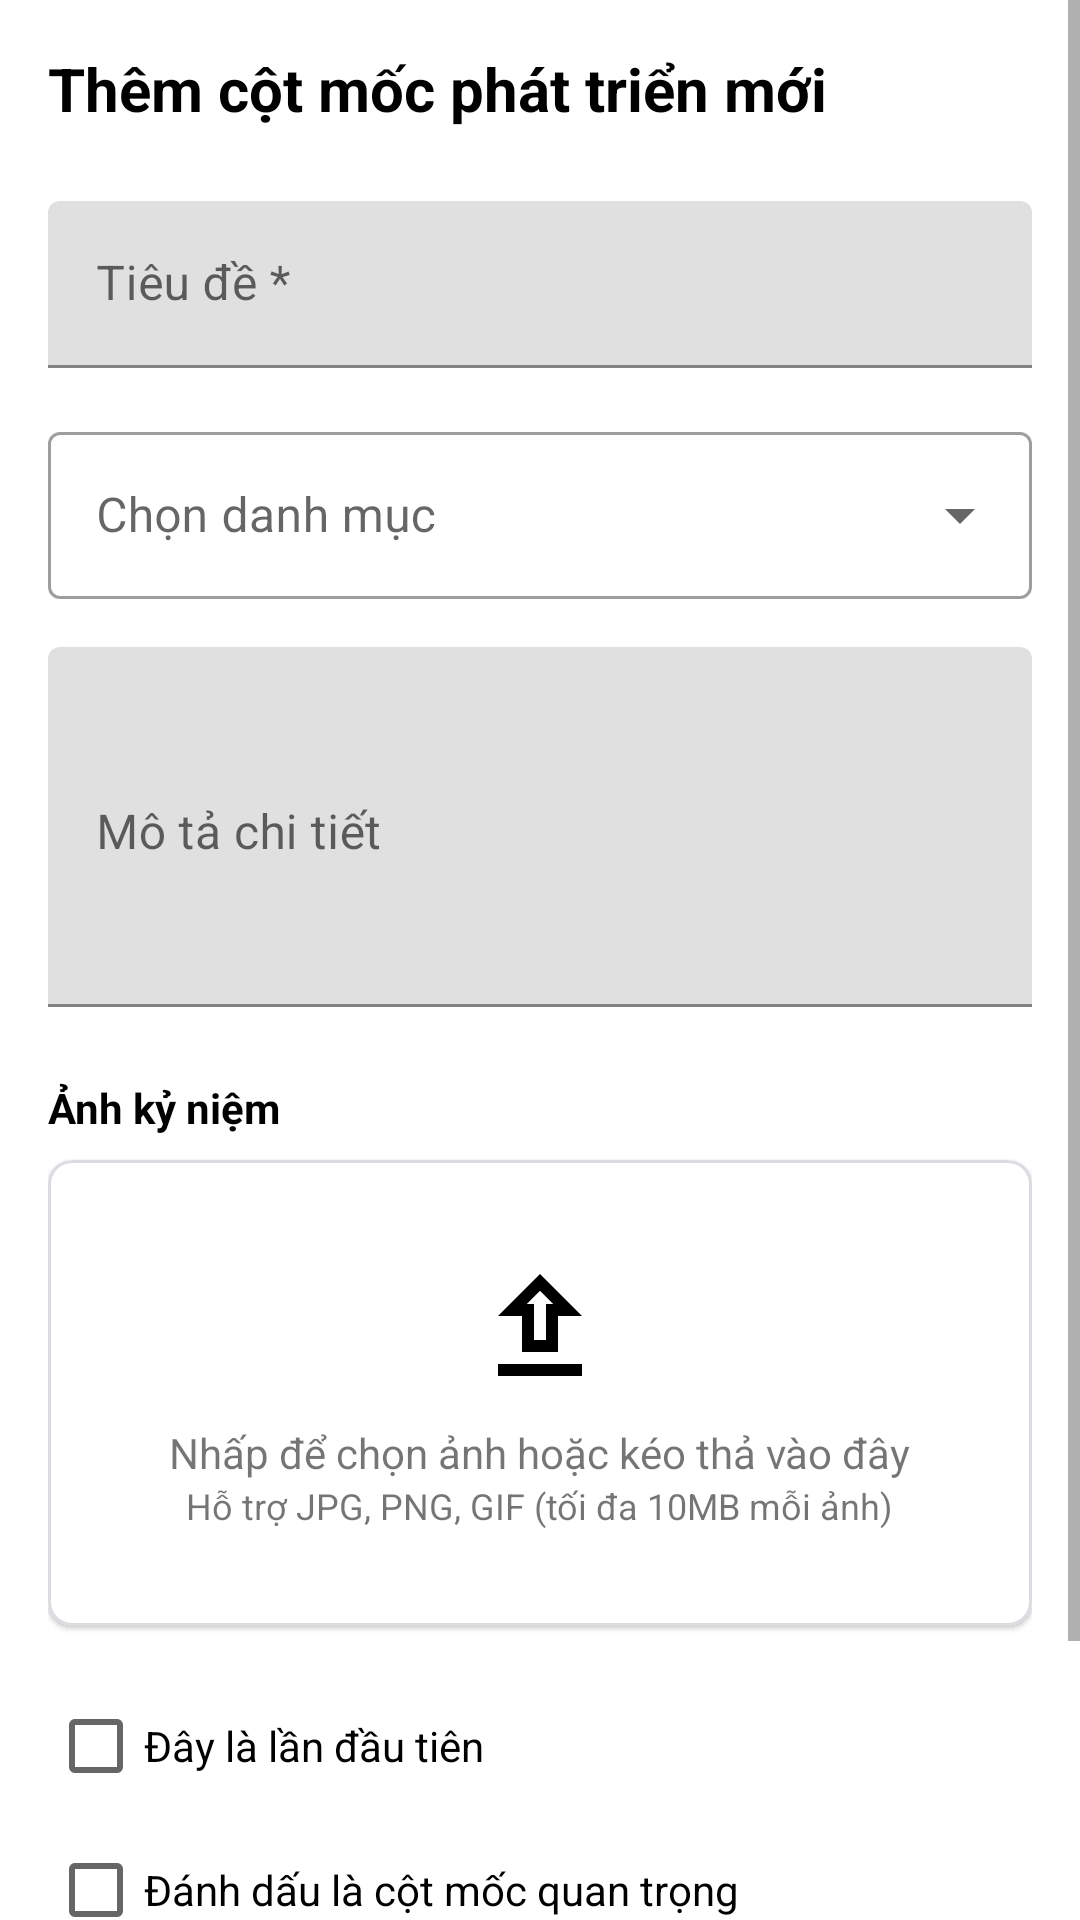

Icons on this 1080w x 1920h Android screen, each with the point to tap as (x=x, y=y):
camera upload: (x=540, y=1325)
